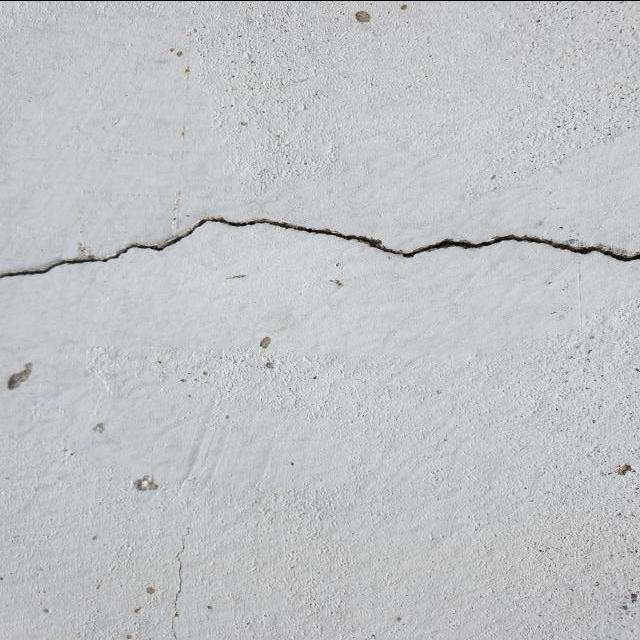SurfaceCrack: (1, 181, 640, 320)
